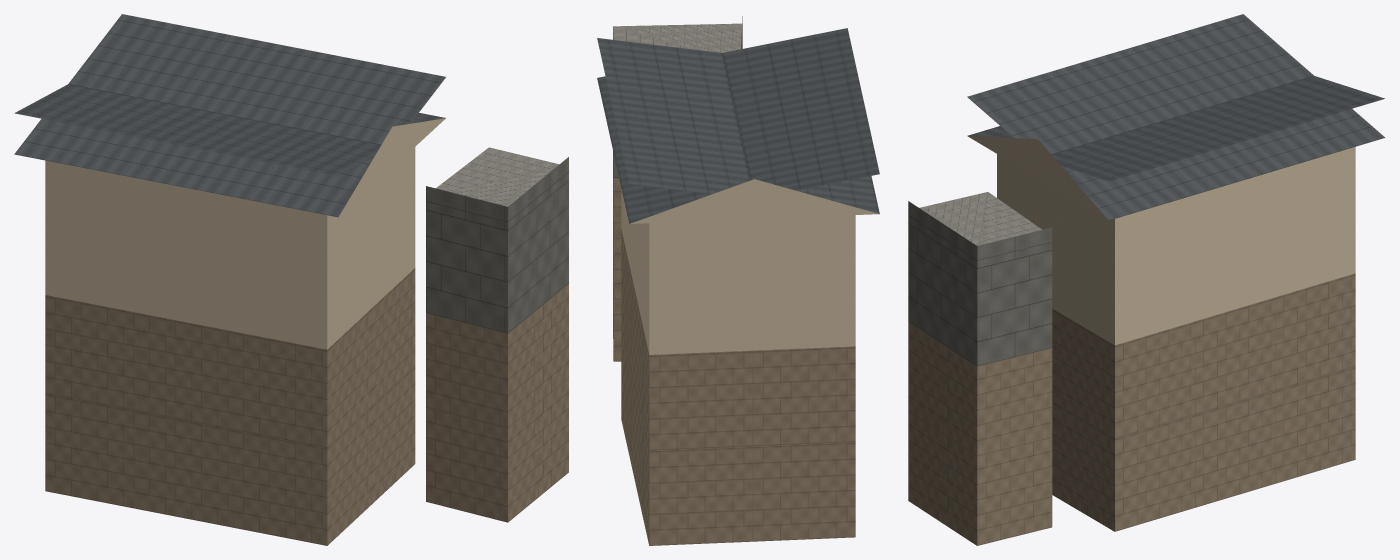
The model's file is bld_c15_23_411.gltf.
3 views of the same model, side by side, from view 1: azimuth 30°, elevation 25°; view 2: azimuth 150°, elevation 25°; view 3: azimuth 270°, elevation 25° (orthographic). The views are drawn at different scales.
Parts seen in each view (by area): view 1: bld_c15_23_411; view 2: bld_c15_23_411; view 3: bld_c15_23_411.
Boxes of the visible parts, left/top/right/bottom form: bld_c15_23_411: left=14, top=14, right=568, bottom=545; bld_c15_23_411: left=597, top=16, right=879, bottom=545; bld_c15_23_411: left=908, top=14, right=1385, bottom=545.
Bounding box in the file's own units: 10.55 × 9.3 × 11.07.
Materials: 7 (7 with a texture image).
